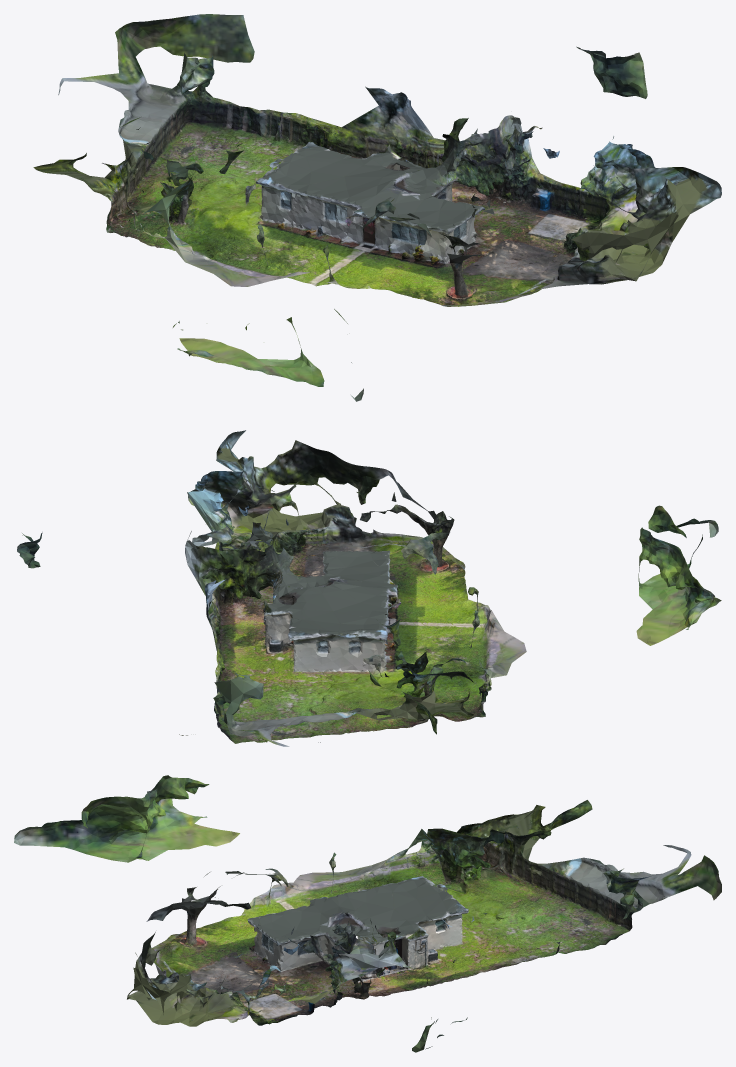
The model's file is scan_house.glb.
The picture shows the model from 3 angles, top to bottom: view 1: azimuth 30°, elevation 25°; view 2: azimuth 150°, elevation 25°; view 3: azimuth 270°, elevation 25°; orthographic projection. The views are drawn at different scales.
Size of the model in its own units: 14.23 by 1.63 by 15.96.
1 material, 1 textured.
